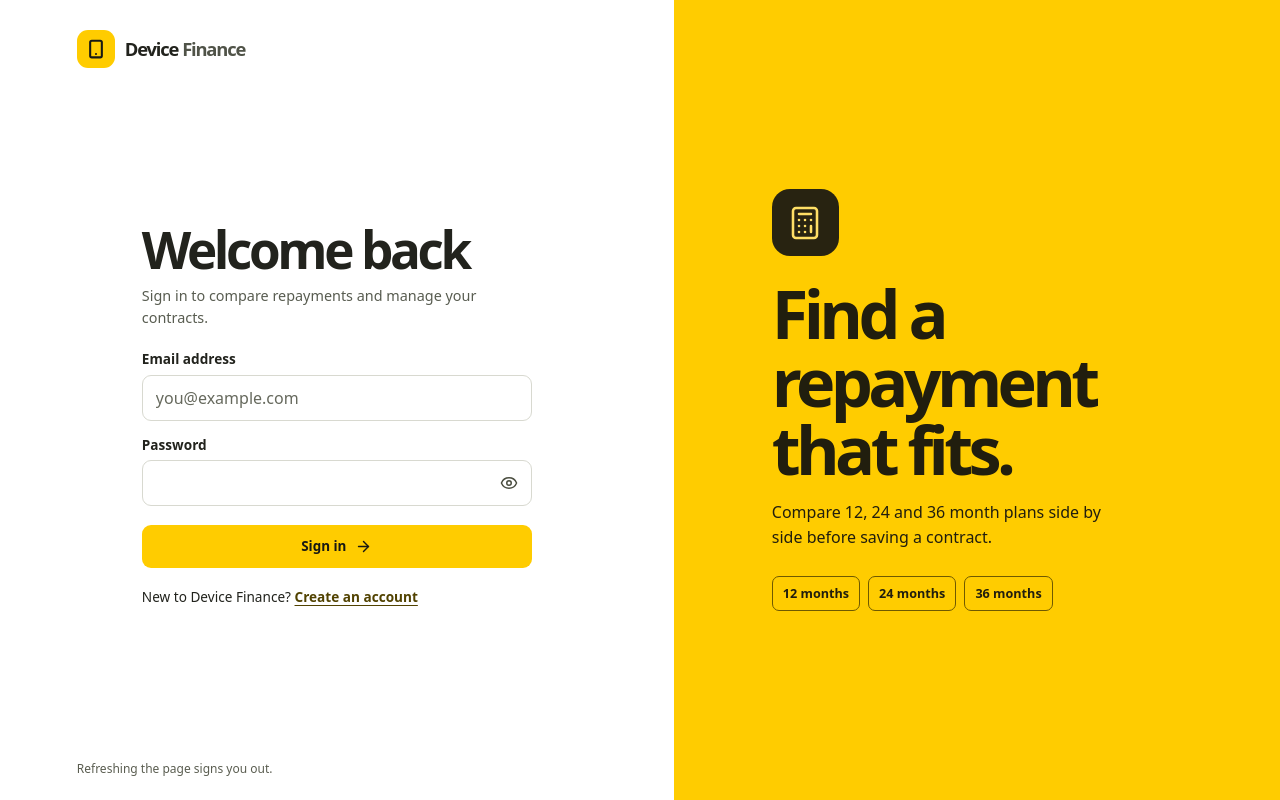
Scenario: account access › displays safe rate-limit feedback and a request ID instead of raw API text
Type "fixture@example.test" into the field labelled "Email address" at (337, 398), box [142,375,532,421]
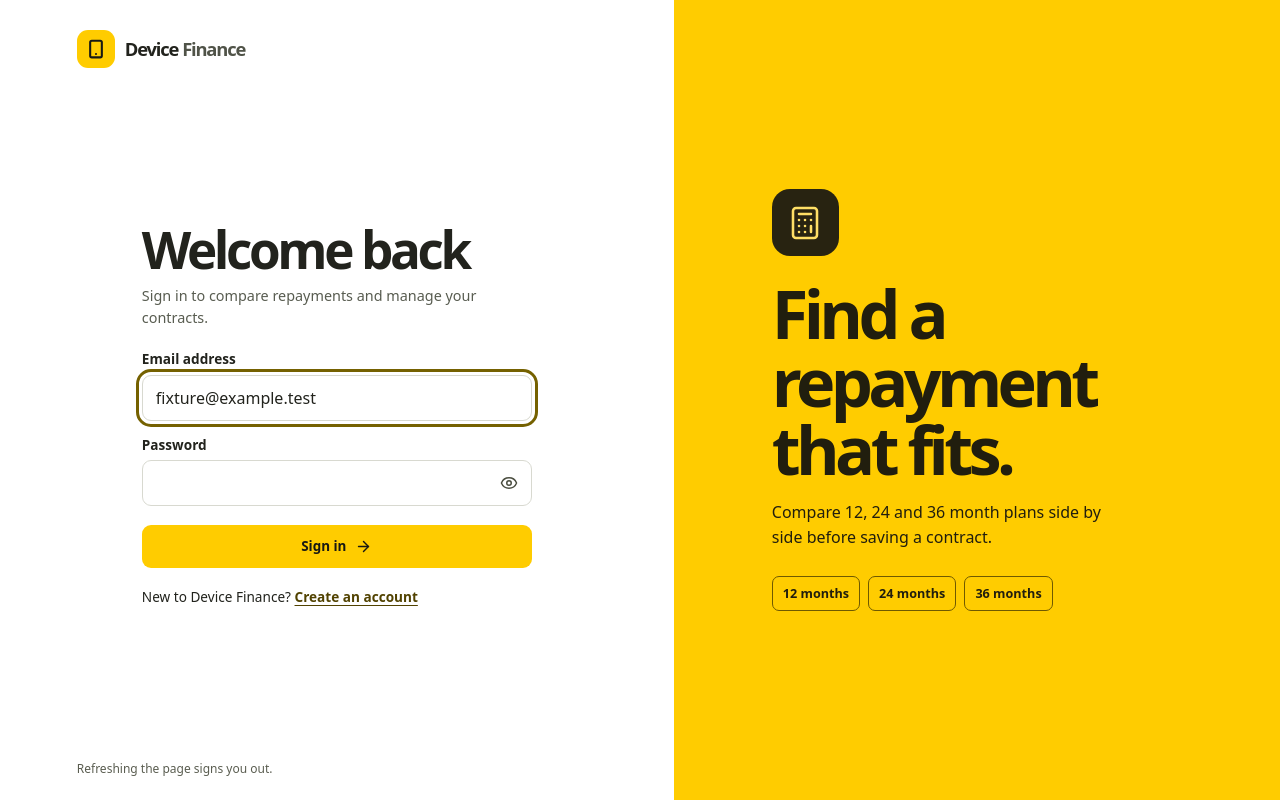
Type "Sufficient fixture password" into the password field labelled "Password" at (337, 483), box [142,460,532,506]
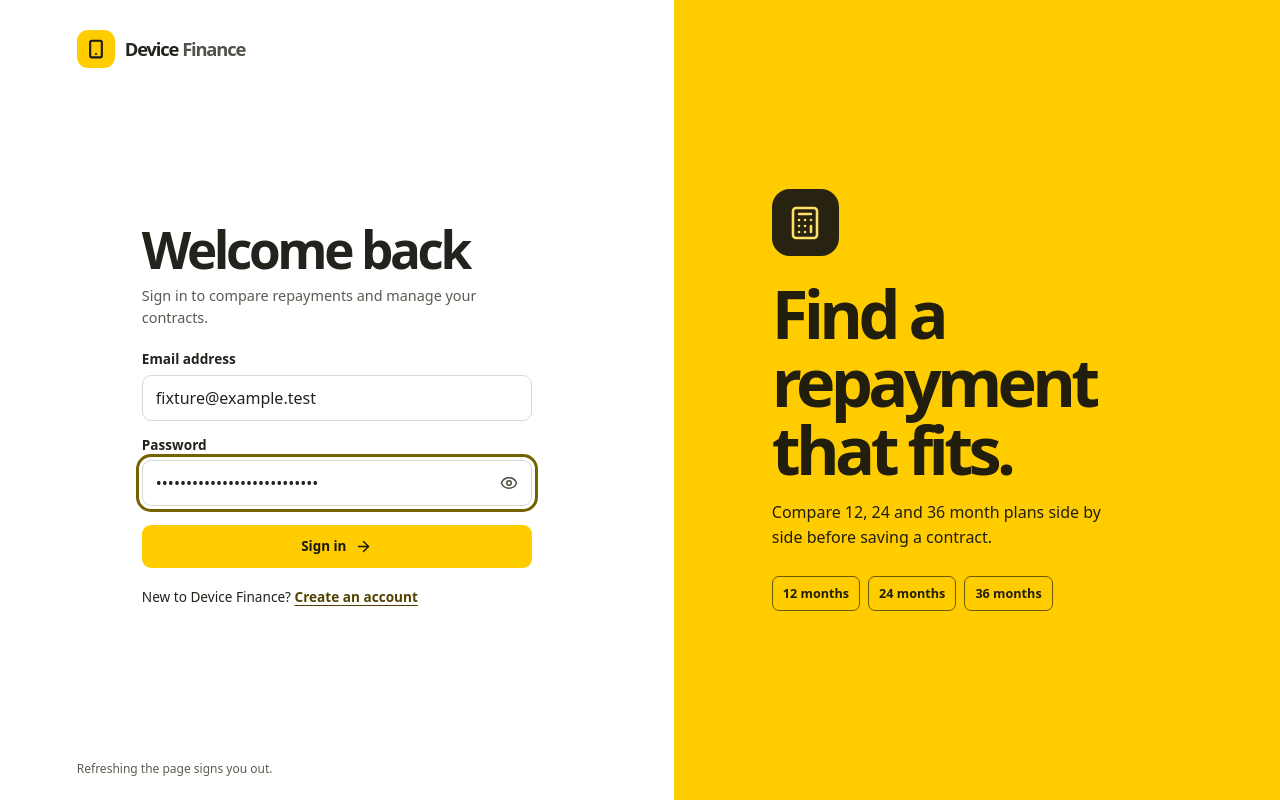
Click the button "Sign in" at (337, 546), box [142,525,532,568]
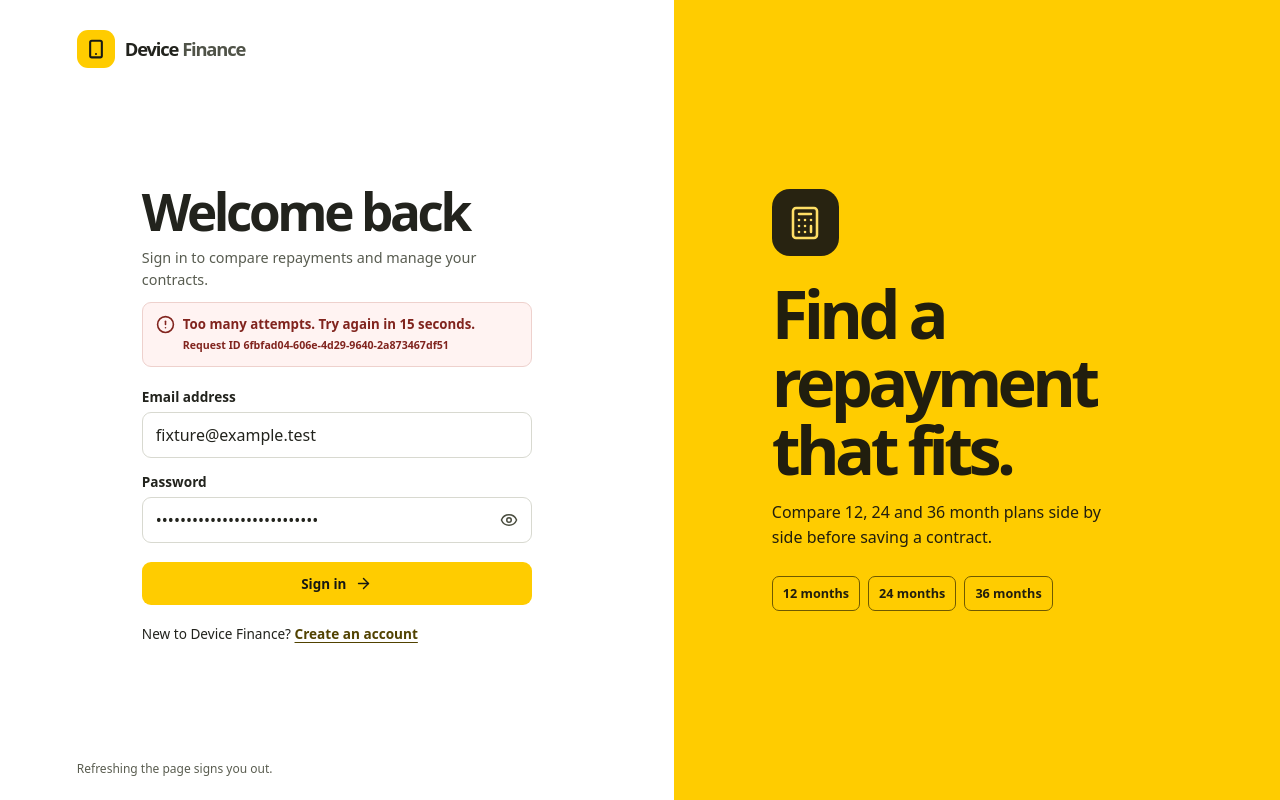
Expected: the message does not show "Untrusted API text", [142,302,532,367]
Result: the message shows "Try again in 15 seconds" at [183,315,475,333]
Result: the message shows "6fbfad04-606e-4d29-9640-2a873467df51" at [243,338,449,352]
